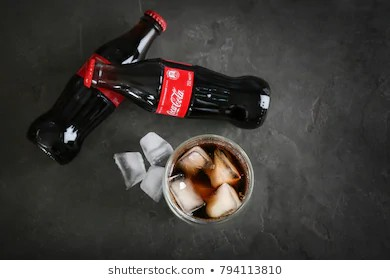coke-glass-bottle: (20, 2, 170, 168), (77, 49, 273, 130)
